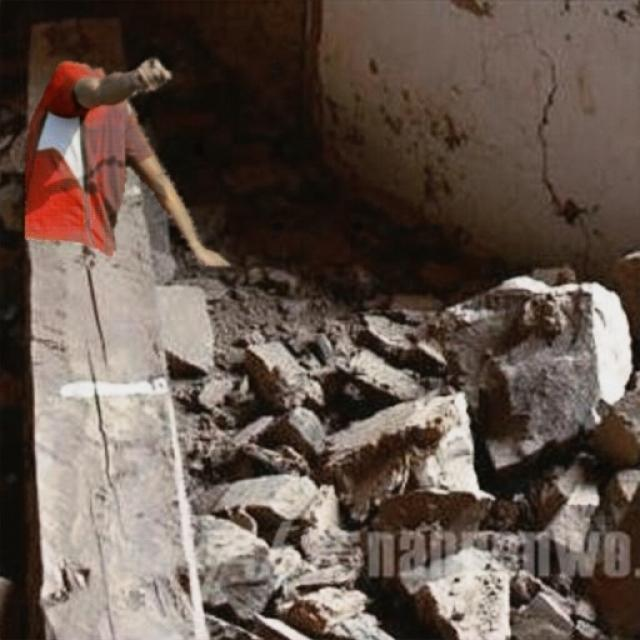Person in Rubble: (25, 59, 231, 265)
